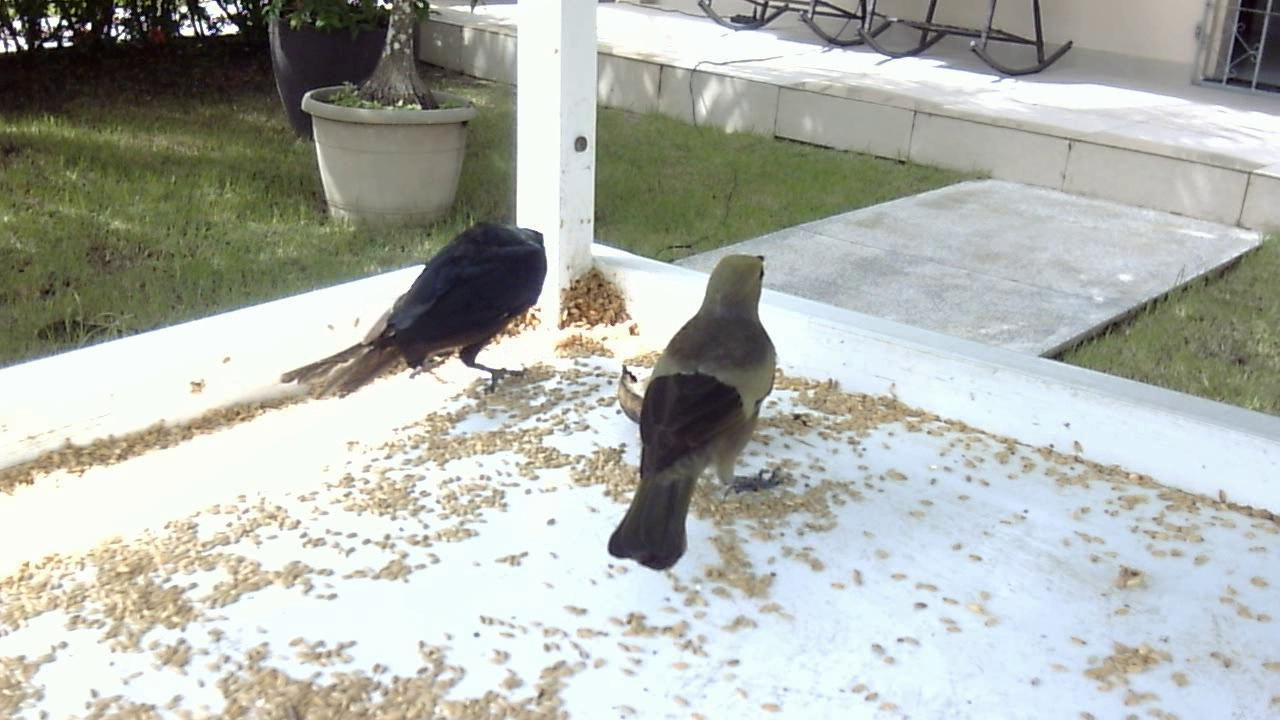chupim: (277, 211, 564, 411)
sanhaco_do_coqueiro: (600, 231, 794, 575)
